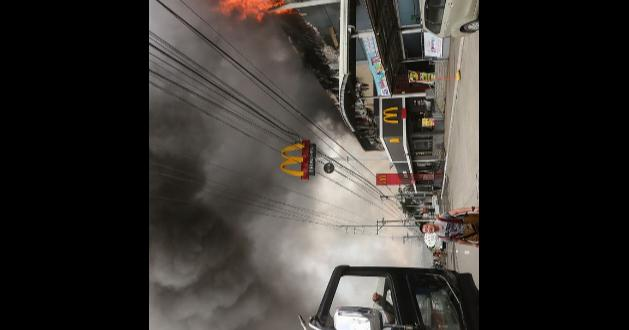fire: (178, 0, 284, 45)
